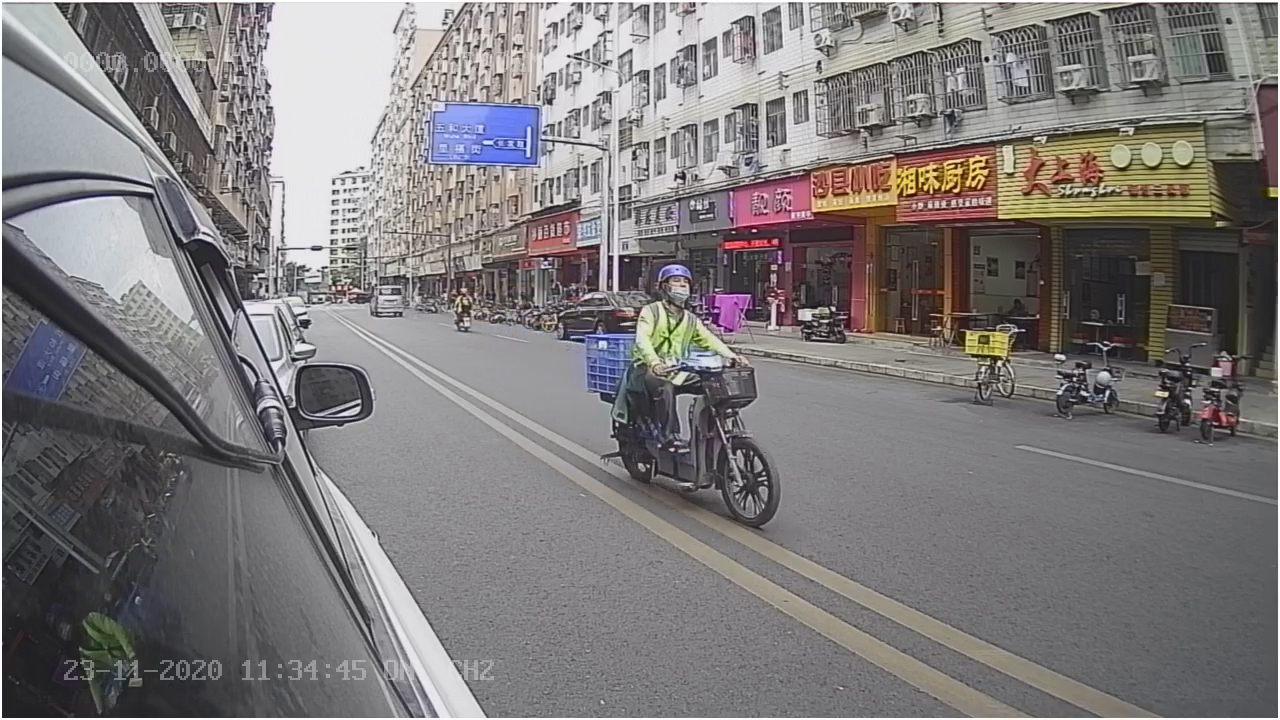person: (635, 257, 733, 374)
